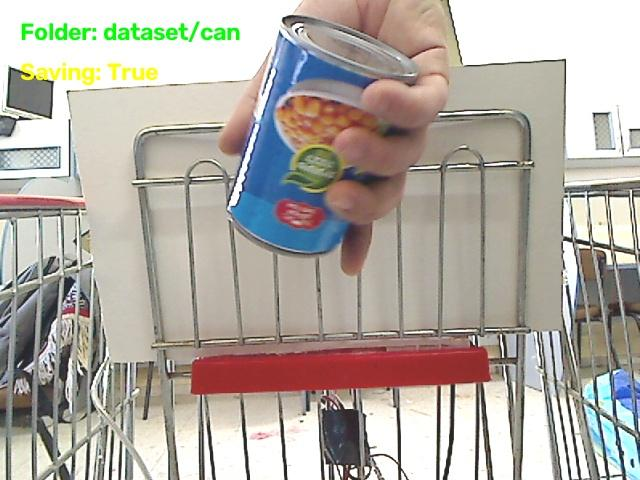can: (227, 15, 417, 254)
